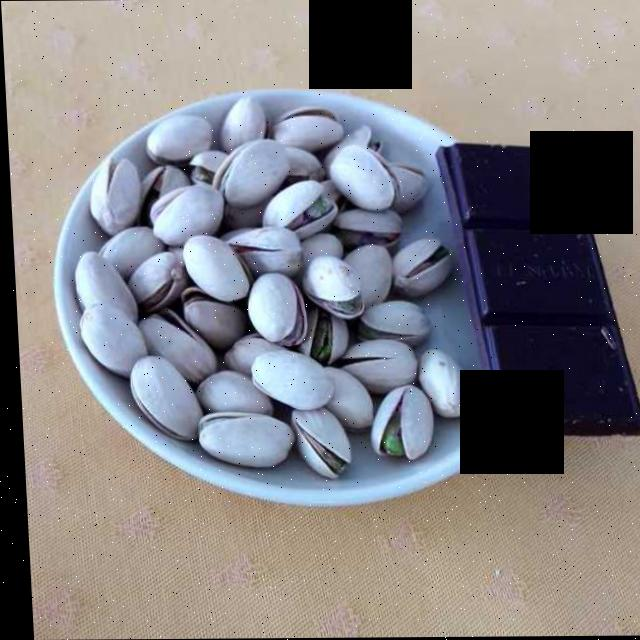dark-chocolate: (429, 138, 639, 433)
pistachio: (70, 103, 459, 474)
